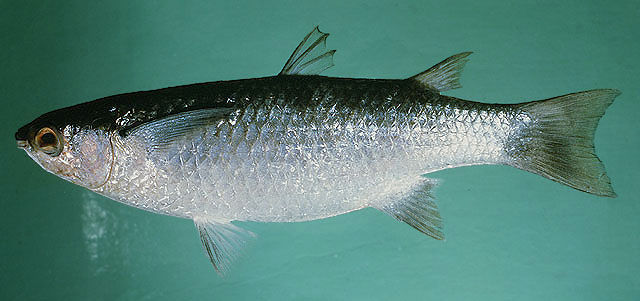fish: (15, 24, 623, 279)
